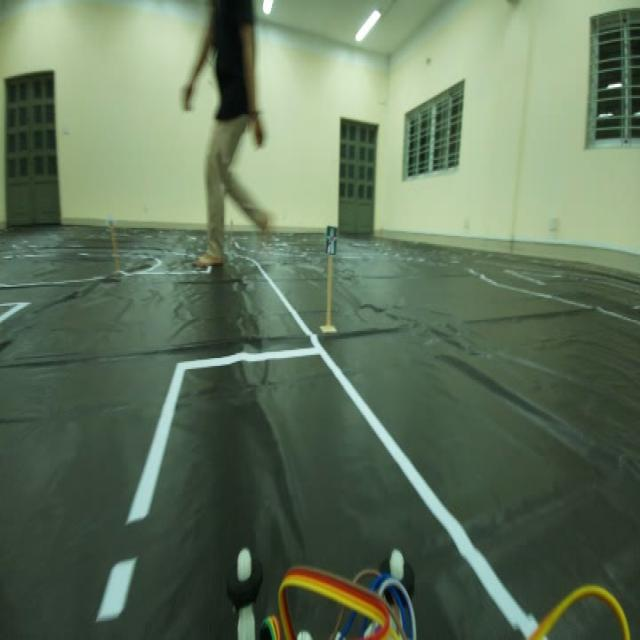highway_exit: (319, 218, 344, 268)
